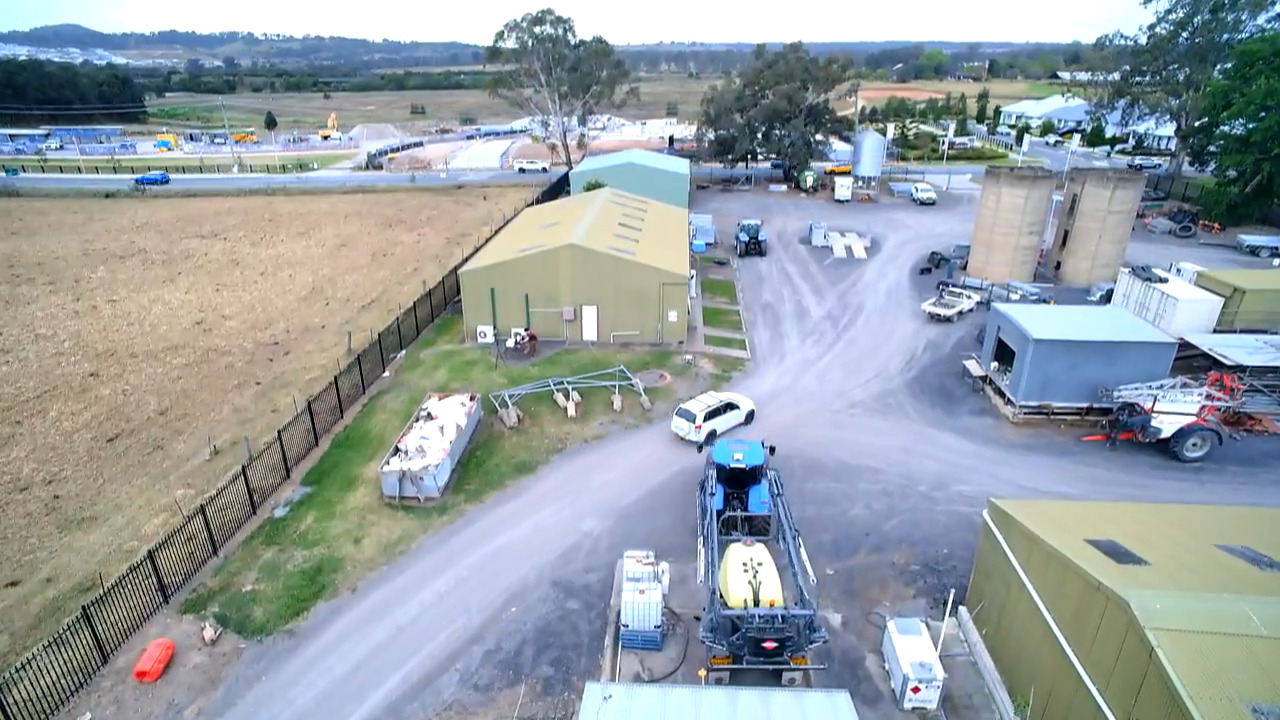Car: (670, 391, 757, 443), (910, 183, 937, 206)
